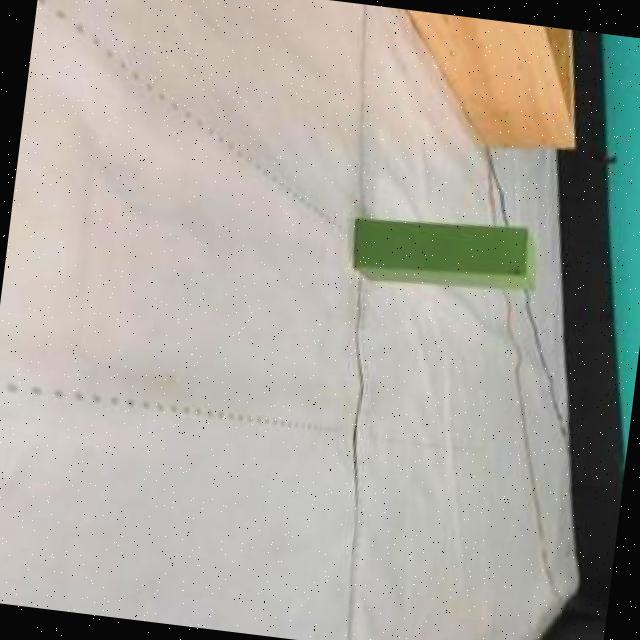greenbox: (348, 203, 547, 298)
